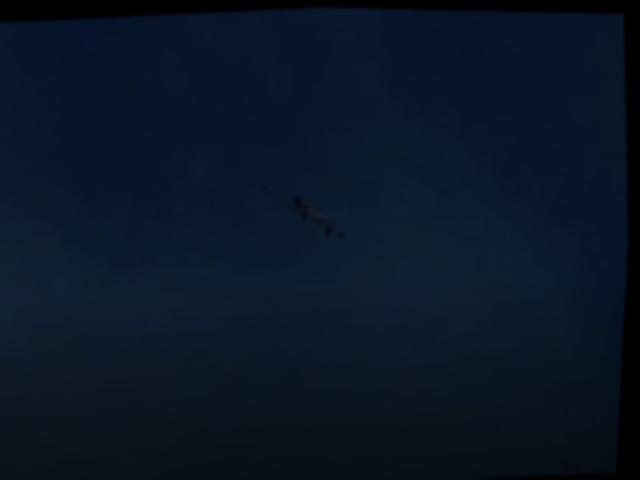iha: (263, 177, 345, 239)
